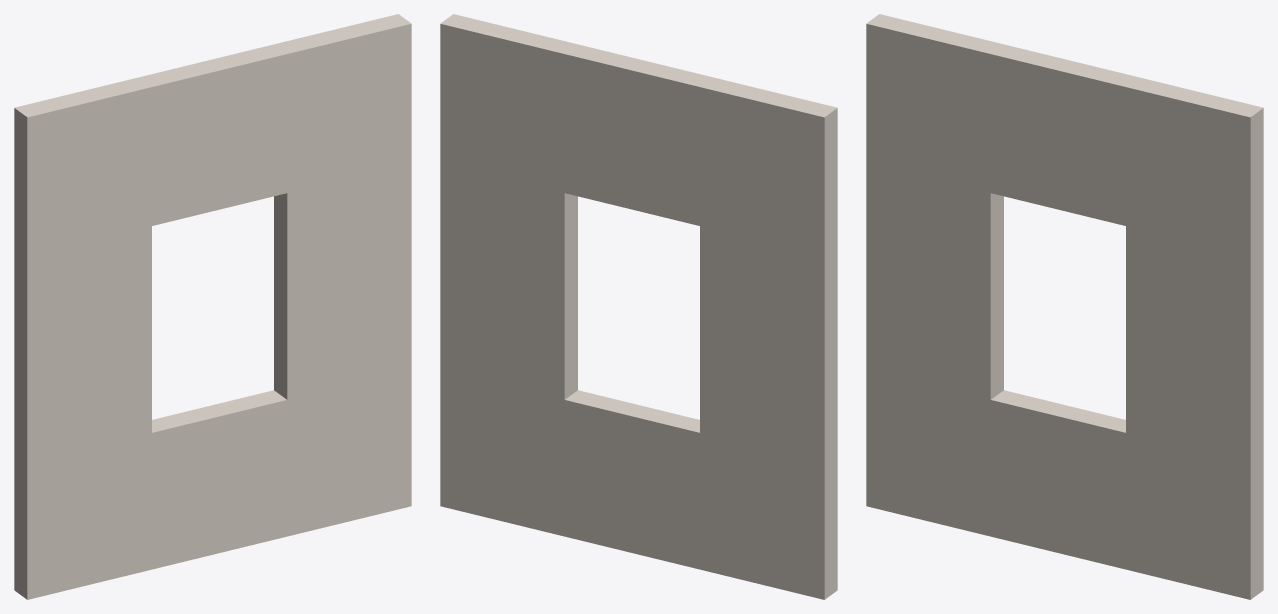
File: Wall1_C1_03_dra.glb
3 renders of one model, left to right at view 1: azimuth 30°, elevation 25°; view 2: azimuth 150°, elevation 25°; view 3: azimuth 330°, elevation 25°, orthographic.
Parts seen in each view (by area): view 1: Wall1_C1_03; view 2: Wall1_C1_03; view 3: Wall1_C1_03.
Part boxes in pixels (box(x1,y1,x2,y2)): Wall1_C1_03: box(14, 14, 411, 599); Wall1_C1_03: box(440, 14, 837, 599); Wall1_C1_03: box(866, 14, 1263, 599).
Size of the model in its own units: 250 by 300 by 14.95.
Materials: 1 (1 with a texture image).
